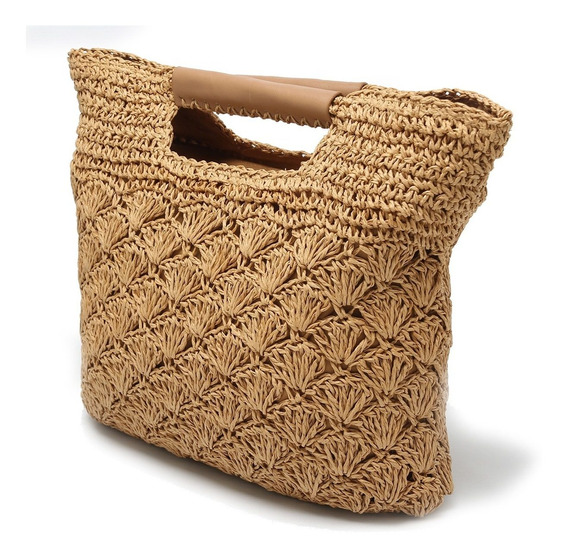cartera: (67, 44, 516, 517)
